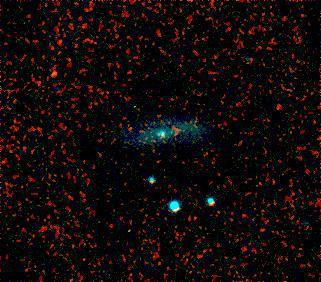star: (38, 55, 68, 85)
